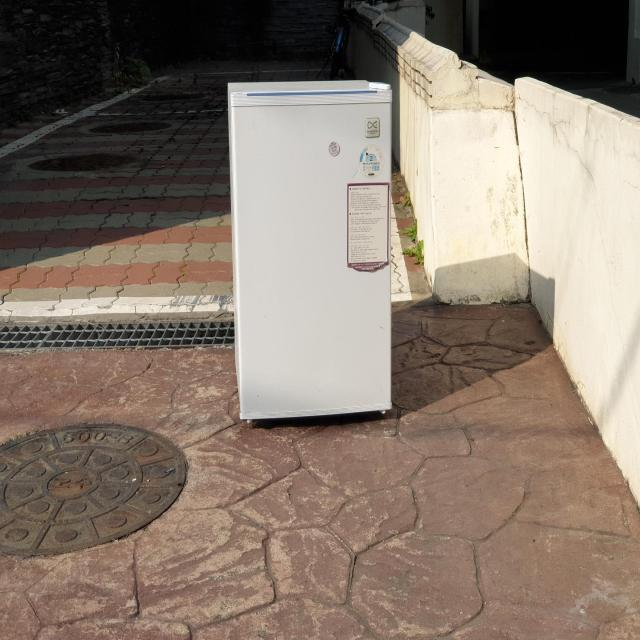refrigerator: (225, 78, 394, 422)
